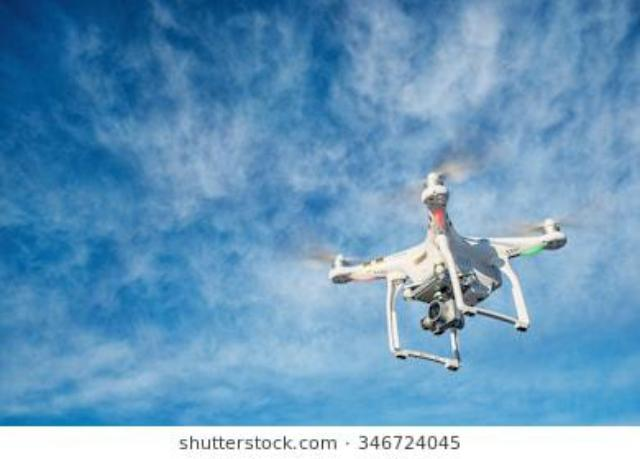drone: (291, 148, 607, 376)
